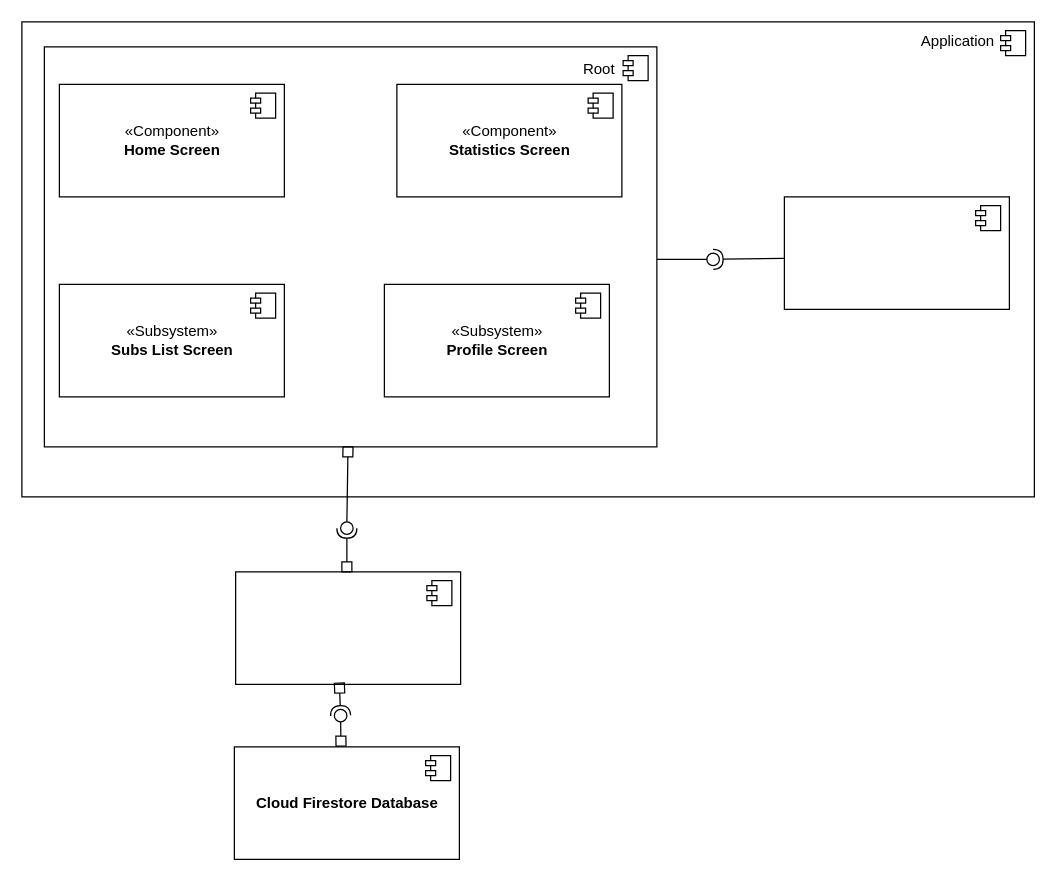
The diagram is 1056 pixels wide and 881 high, and some of its shapes have lost their labels. Here are the shapes that lost their labels. From the top down, the box of each, then its label:
(783, 196, 1009, 309): Redux Toolkit
(234, 571, 461, 684): Cloud Functions
